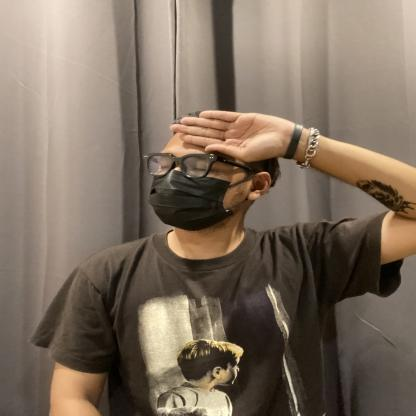Sick: (90, 91, 350, 187)
